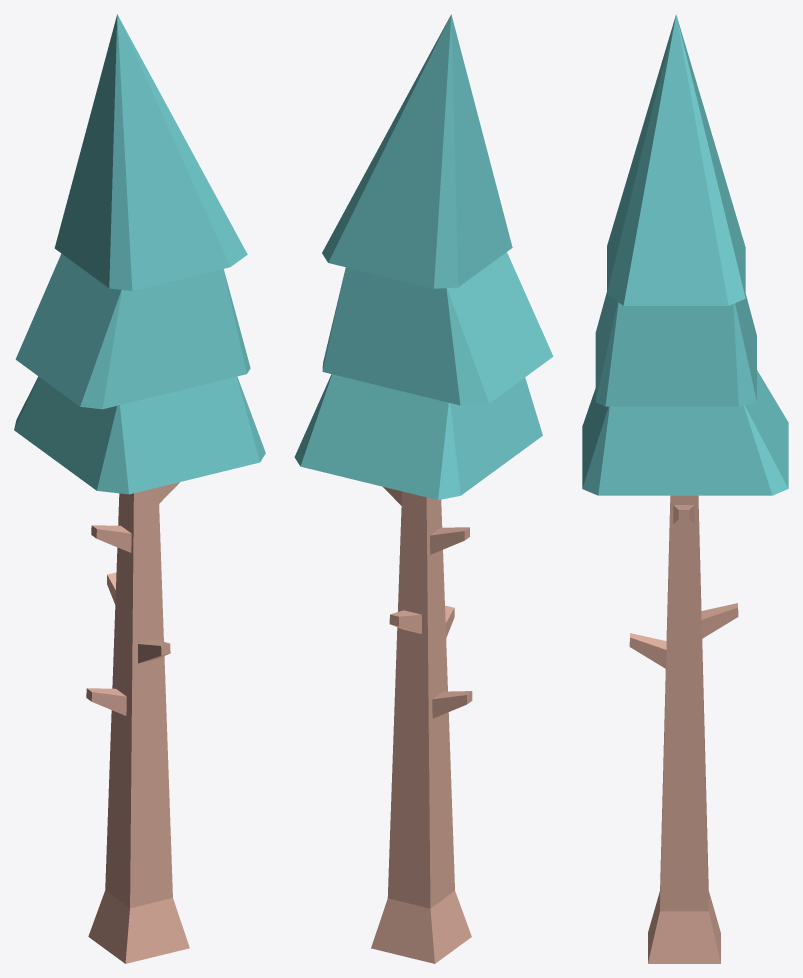
The model's file is tree_pineTallB_detailed.gltf.
The picture shows the model from 3 angles, left to right: view 1: azimuth 30°, elevation 25°; view 2: azimuth 150°, elevation 25°; view 3: azimuth 270°, elevation 25°; orthographic projection.
Visible parts, largest first — view 1: tree_pineTallB_detailed; view 2: tree_pineTallB_detailed; view 3: tree_pineTallB_detailed.
Boxes of the visible parts, x1,y1,x2,y2 form: tree_pineTallB_detailed: (14,14,265,963); tree_pineTallB_detailed: (294,14,553,963); tree_pineTallB_detailed: (582,14,788,963).
Bounding box in the file's own units: 0.3863 × 1.93 × 0.3919.
